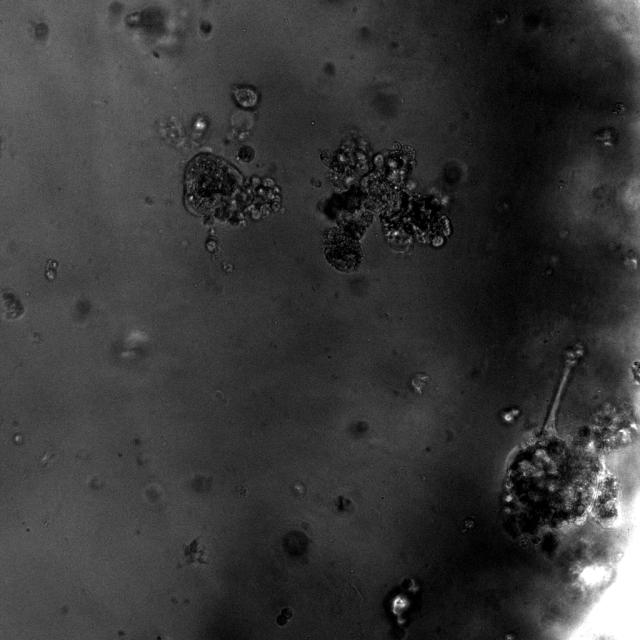organoid: (500, 344, 638, 555), (321, 135, 451, 272), (183, 151, 281, 225), (231, 83, 261, 111), (282, 529, 309, 556), (0, 289, 24, 319), (205, 226, 221, 259), (44, 259, 58, 281), (237, 145, 254, 163), (276, 608, 292, 626), (199, 19, 212, 38)
